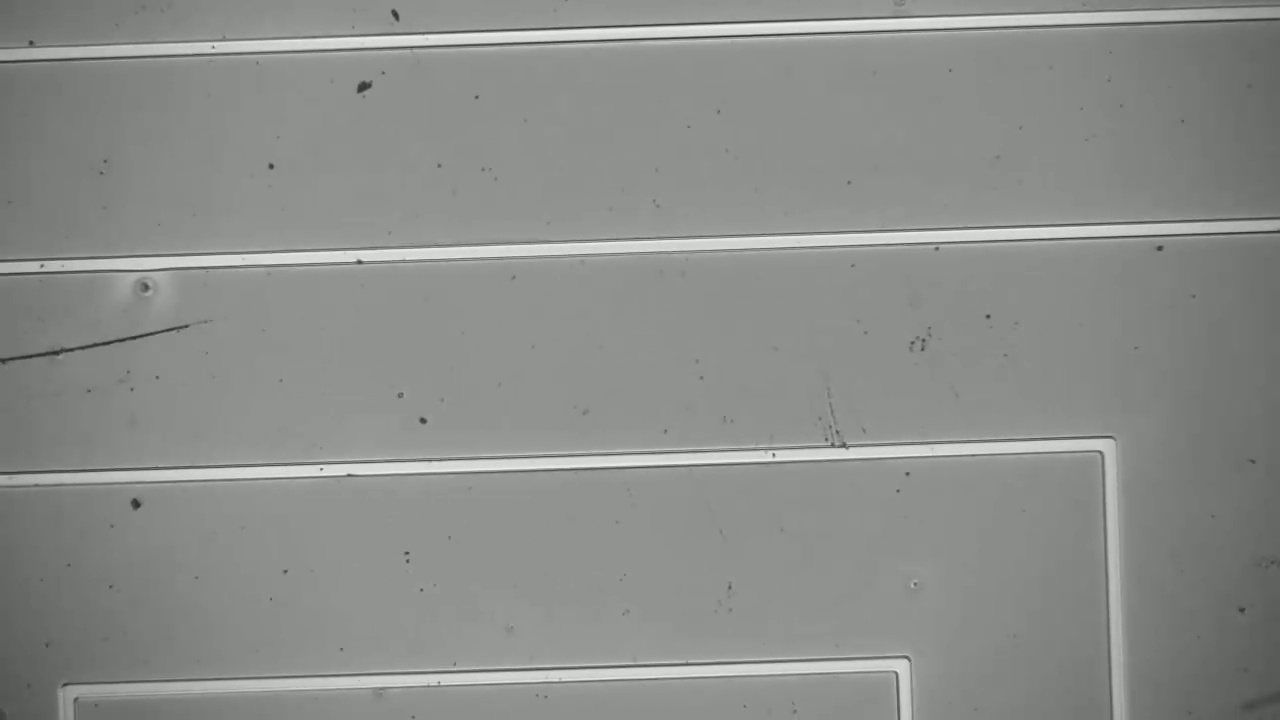scratch: (0, 313, 232, 382)
